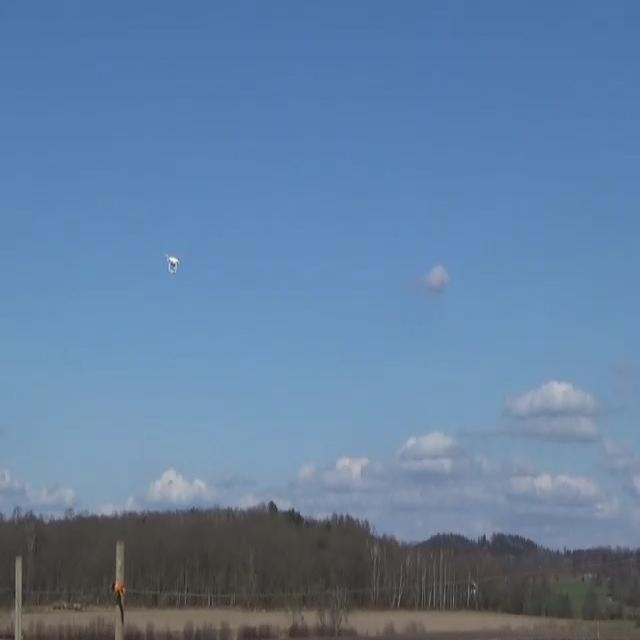drone: (164, 252, 180, 274)
